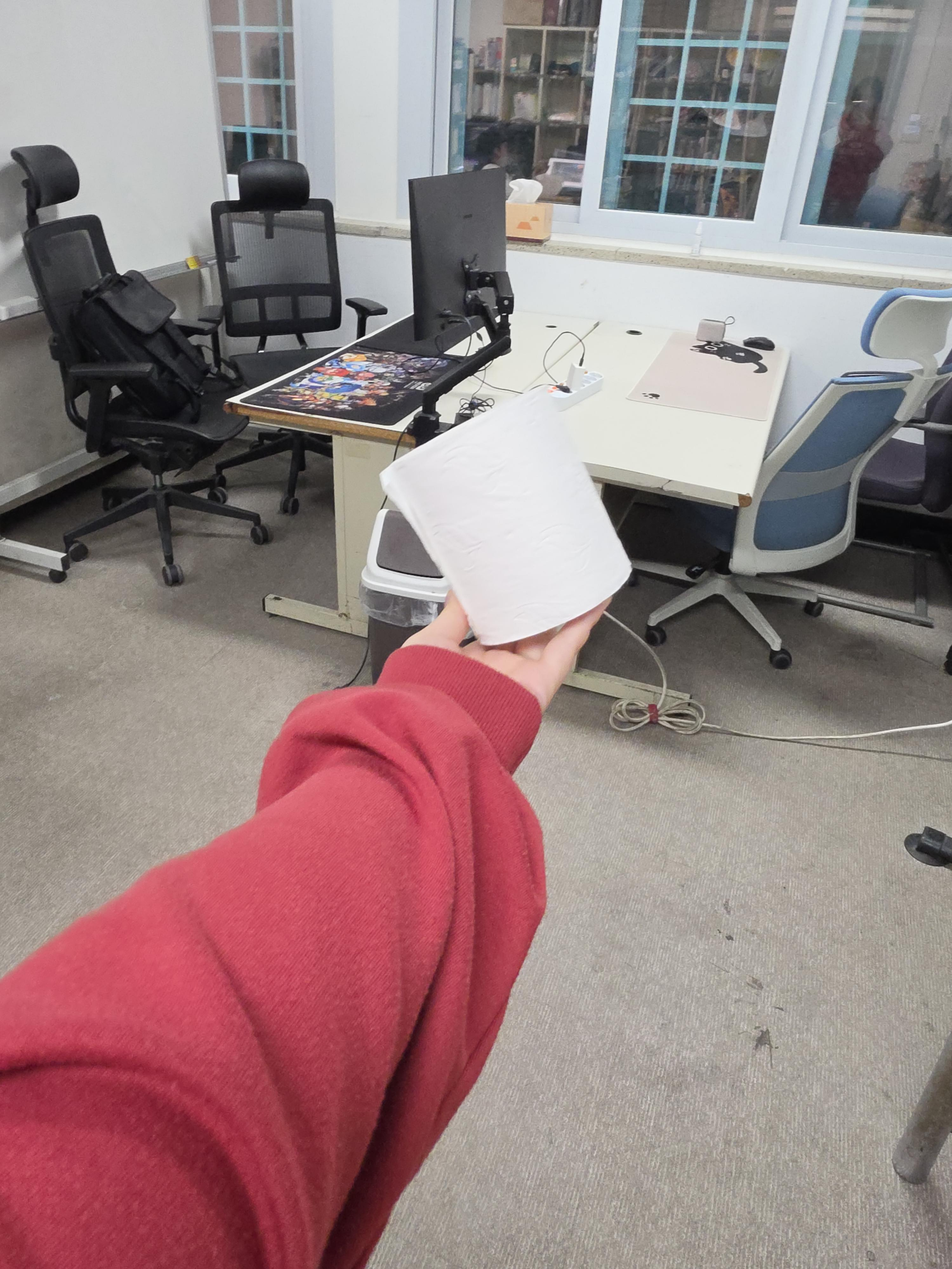tissue: (379, 383, 632, 646), (506, 178, 553, 242)
